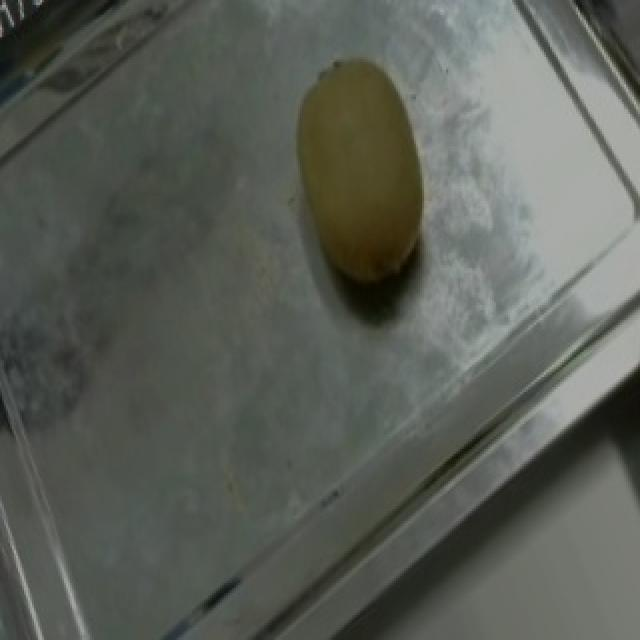Fruit: (254, 37, 470, 318)
